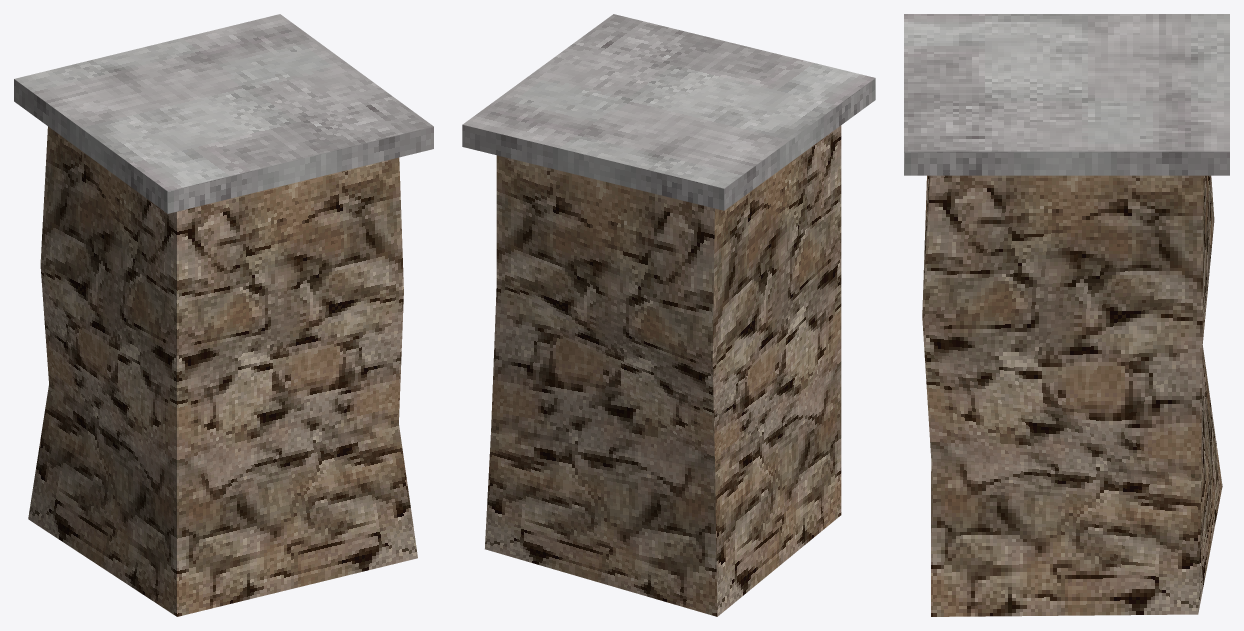
File: drystone_column_capped.glb
3 views of the same model, side by side, from view 1: azimuth 30°, elevation 25°; view 2: azimuth 150°, elevation 25°; view 3: azimuth 270°, elevation 25° (orthographic). The views are drawn at different scales.
Visible parts, largest first — view 1: drystone_column_capped; view 2: drystone_column_capped; view 3: drystone_column_capped.
Boxes of the visible parts, left/top/right/bottom form: drystone_column_capped: left=14, top=14, right=433, bottom=616; drystone_column_capped: left=462, top=14, right=875, bottom=616; drystone_column_capped: left=904, top=14, right=1229, bottom=616.
Bounding box in the file's own units: 0.75 × 1.19 × 0.75.
Materials: 2 (2 with a texture image).
